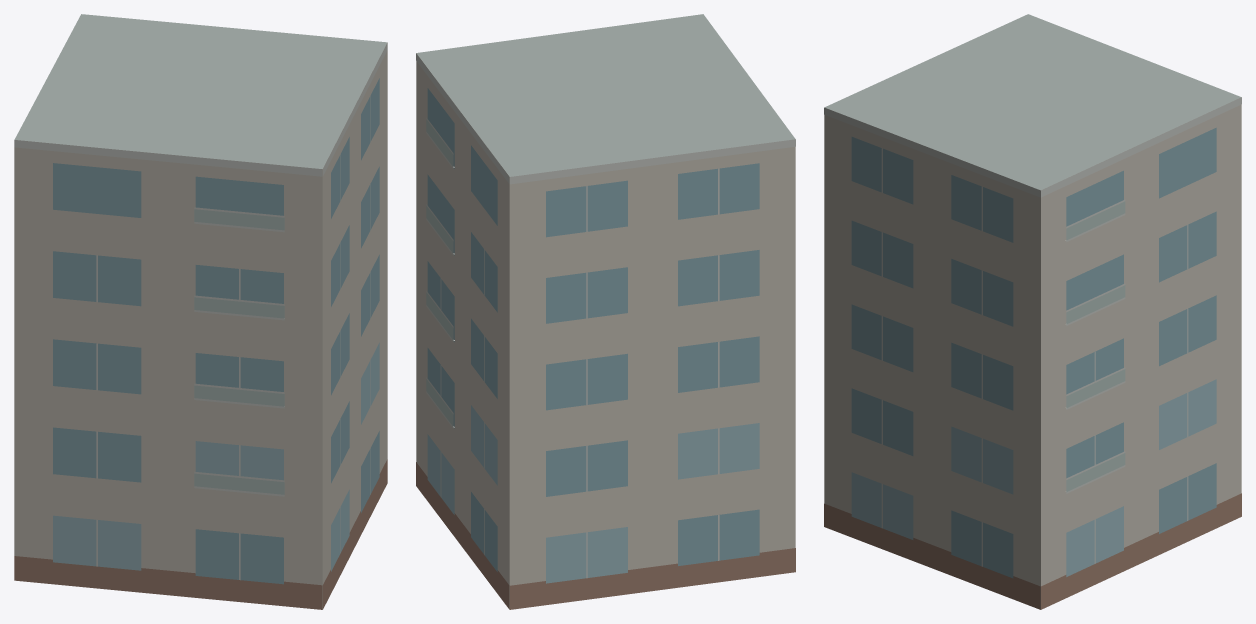
File: survey-upis-32712077.glb
3 renders of one model, left to right at view 1: azimuth 30°, elevation 25°; view 2: azimuth 150°, elevation 25°; view 3: azimuth 270°, elevation 25°, orthographic. The views are drawn at different scales.
Visible parts, largest first — view 1: survey-upis-32712077.tmp; view 2: survey-upis-32712077.tmp; view 3: survey-upis-32712077.tmp.
Part boxes in pixels (left/top/right/bottom): survey-upis-32712077.tmp: left=14, top=14, right=387, bottom=609; survey-upis-32712077.tmp: left=416, top=14, right=795, bottom=609; survey-upis-32712077.tmp: left=824, top=14, right=1241, bottom=609.
Size of the model in its own units: 12.82 by 14.2 by 12.82.
